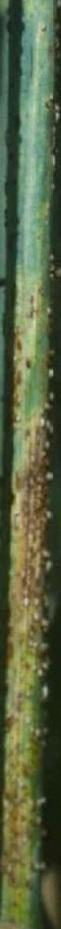Wheat: (8, 280, 61, 929)
